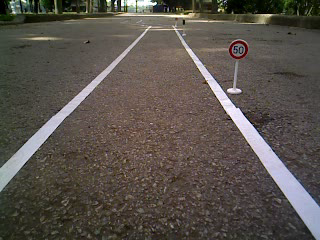limit 50: (225, 37, 251, 62)
